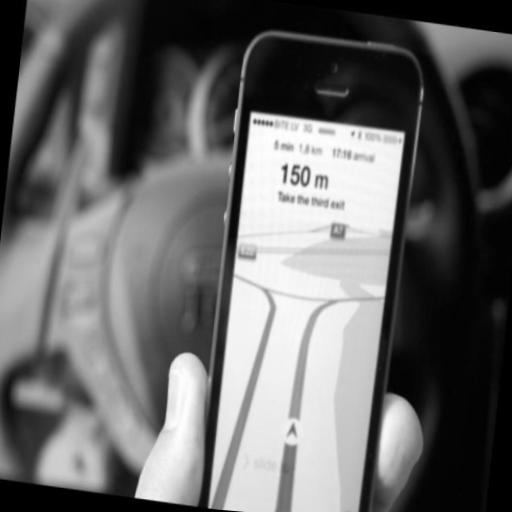phone: (205, 18, 429, 512)
